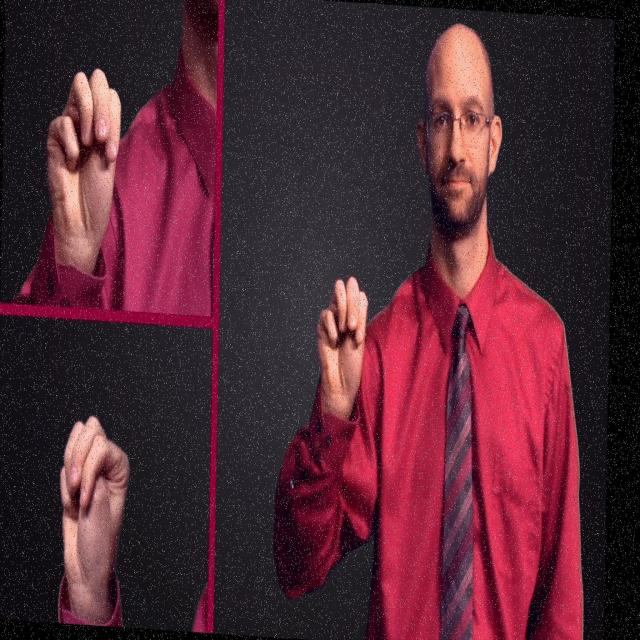M: (44, 61, 125, 241), (55, 408, 134, 590), (315, 273, 370, 405)
